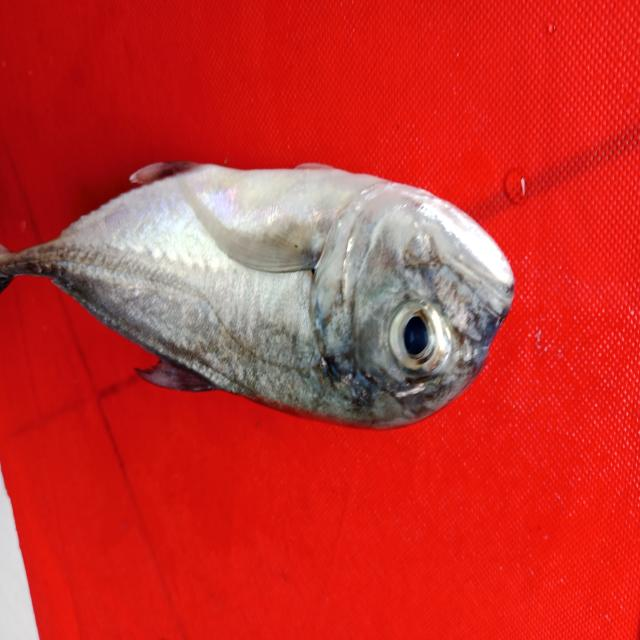ikan: (6, 117, 528, 442)
